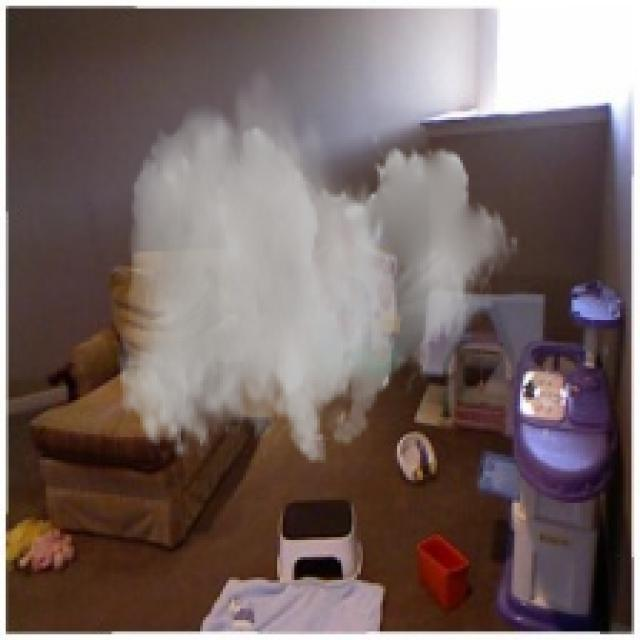Smoke: (117, 60, 520, 466)
